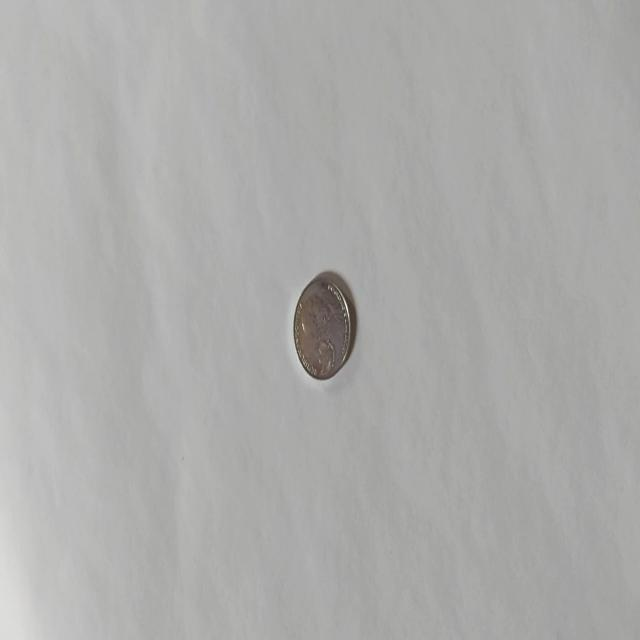lima ratus rupiah: (292, 272, 352, 381)
